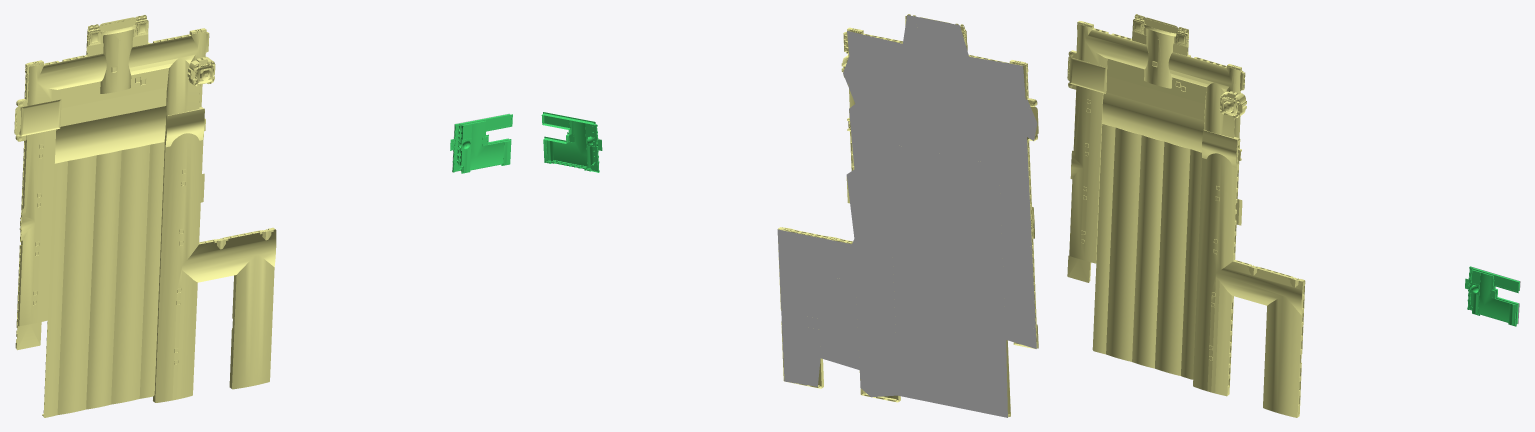
The picture shows the model from 3 angles, left to right: view 1: azimuth 30°, elevation 25°; view 2: azimuth 150°, elevation 25°; view 3: azimuth 330°, elevation 25°; orthographic projection. The views are drawn at different scales.
Bounding box in the file's own units: 2129 × 1634 × 65.1.
